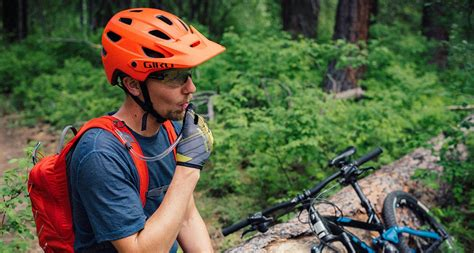com_capacete_bicicleta: (100, 6, 227, 123)
